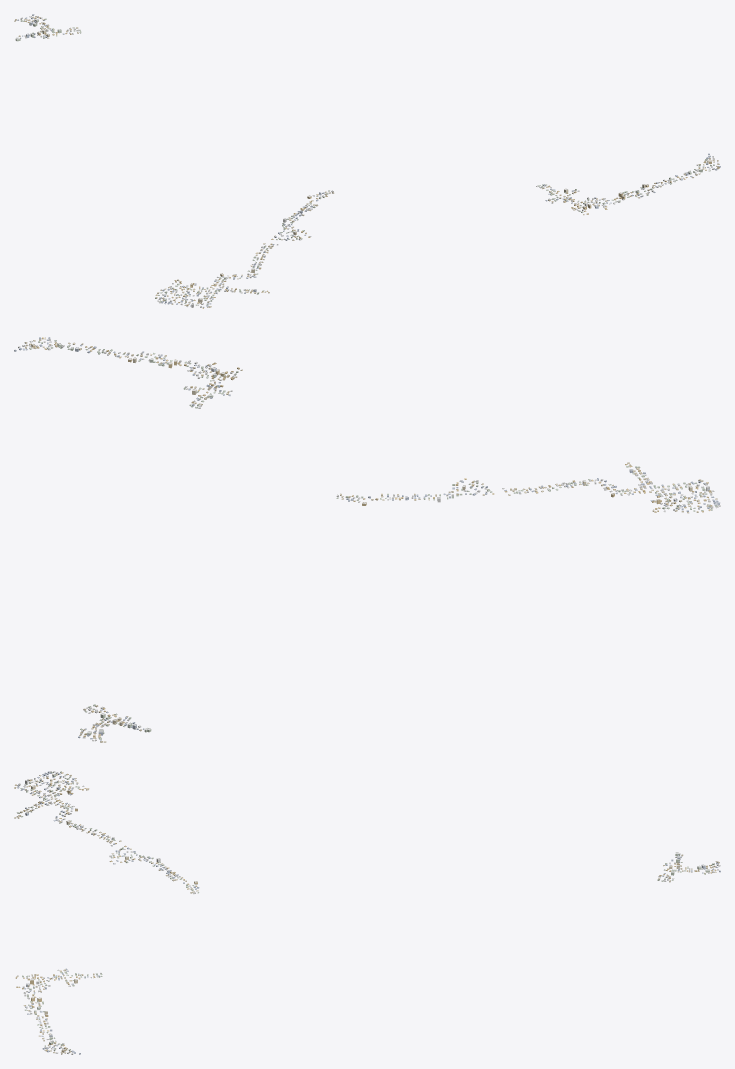
The picture shows the model from 3 angles, top to bottom: view 1: azimuth 30°, elevation 25°; view 2: azimuth 150°, elevation 25°; view 3: azimuth 270°, elevation 25°; orthographic projection. The views are drawn at different scales.
Parts seen in each view (by area): view 1: house, roof_zinc, apartment; view 2: house, roof_zinc, apartment; view 3: house, roof_zinc, apartment.
Boxes of the visible parts, bbox=[...] form: house: bbox=[14, 14, 720, 308]; roof_zinc: bbox=[14, 14, 720, 308]; apartment: bbox=[15, 18, 711, 307]; house: bbox=[14, 337, 720, 742]; roof_zinc: bbox=[14, 337, 720, 741]; apartment: bbox=[31, 343, 710, 735]; house: bbox=[14, 771, 720, 1054]; roof_zinc: bbox=[14, 771, 720, 1053]; apartment: bbox=[25, 774, 709, 1052].
Size of the model in its own units: 1.37e+08 by 734834 by 1.44e+08.
